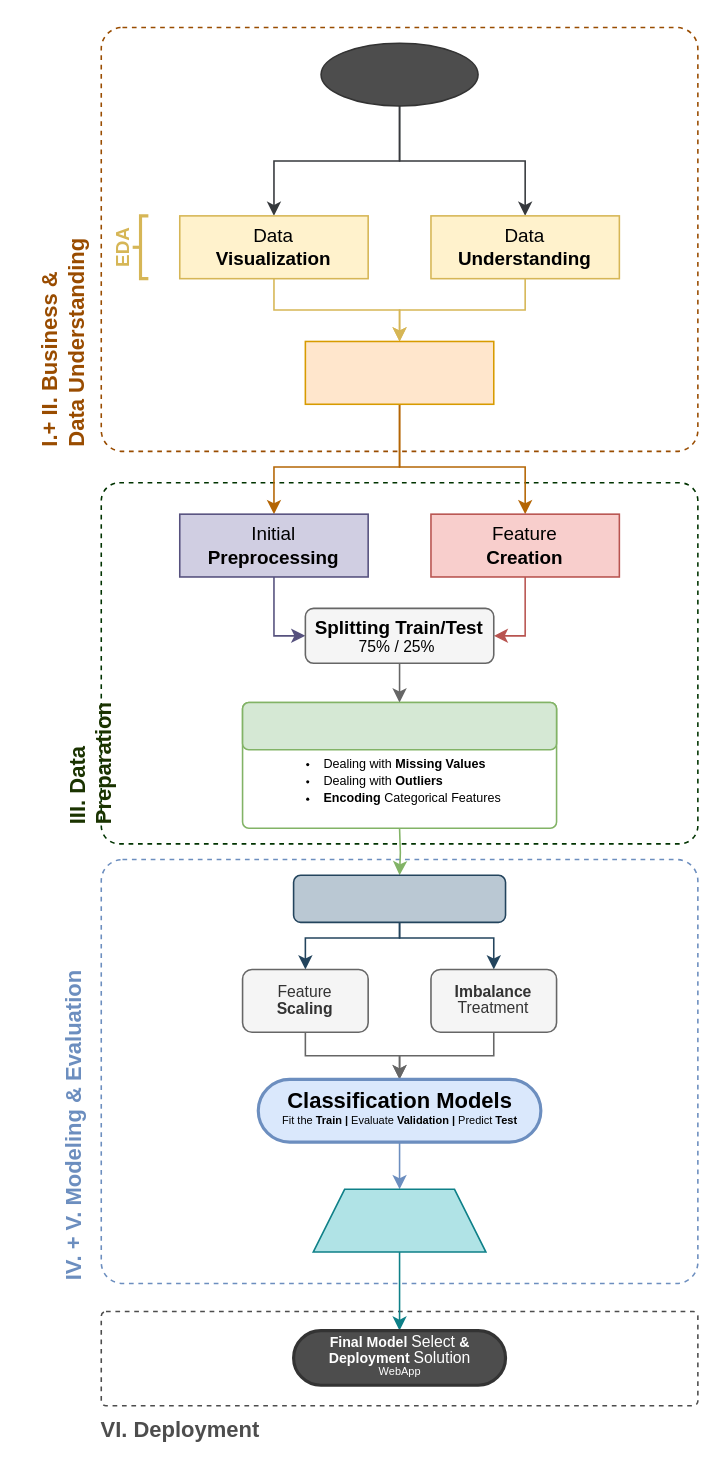
Image size: 725x1473. Some labels were removed from this diagram. Here are the shapes that lost their labels. From the top down, the centre of each, then its label:
(x=398, y=74): Initial Dataset
(x=399, y=372): Data Requirements & Assessment
(x=399, y=725): Feature Engineering
(x=399, y=898): Feature Selection
(x=399, y=1220): Best Models Optimization
